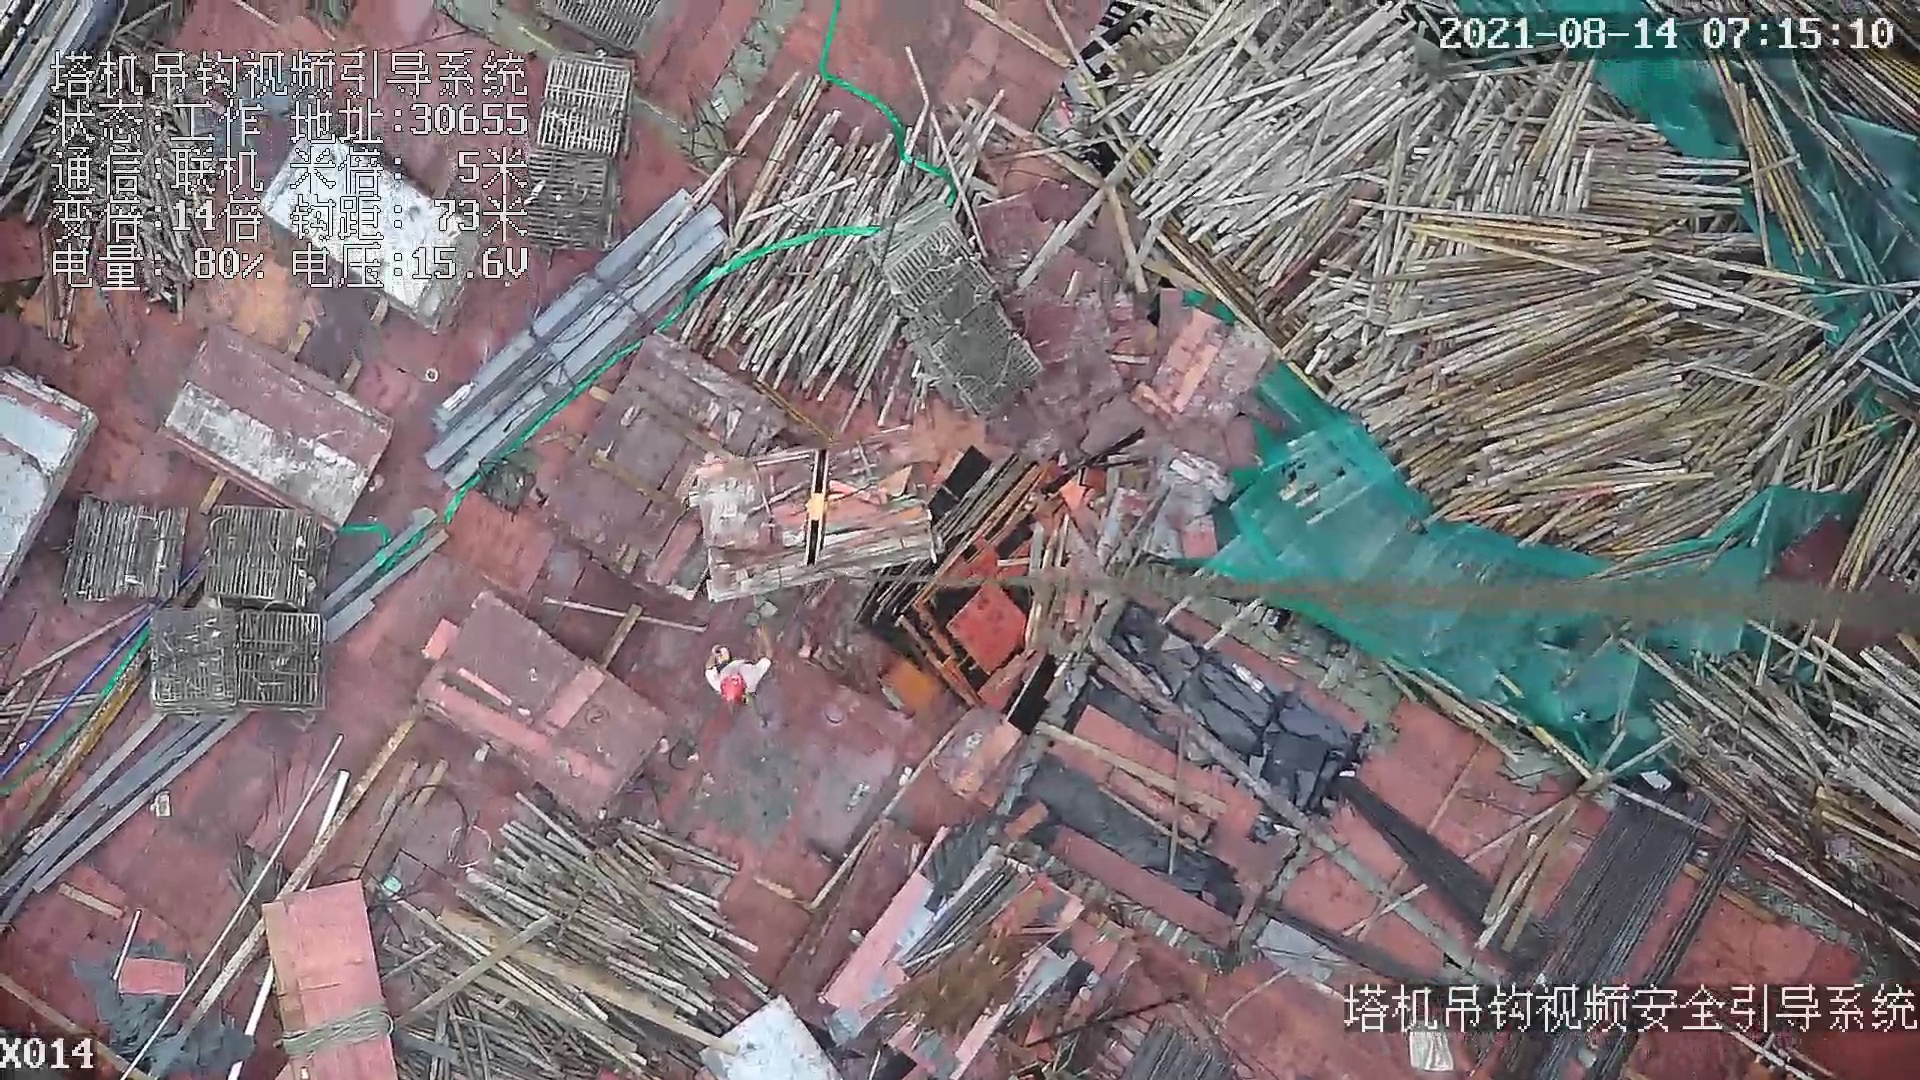helmet: (722, 672, 748, 708)
hook: (799, 440, 837, 569)
person: (703, 640, 768, 708)
